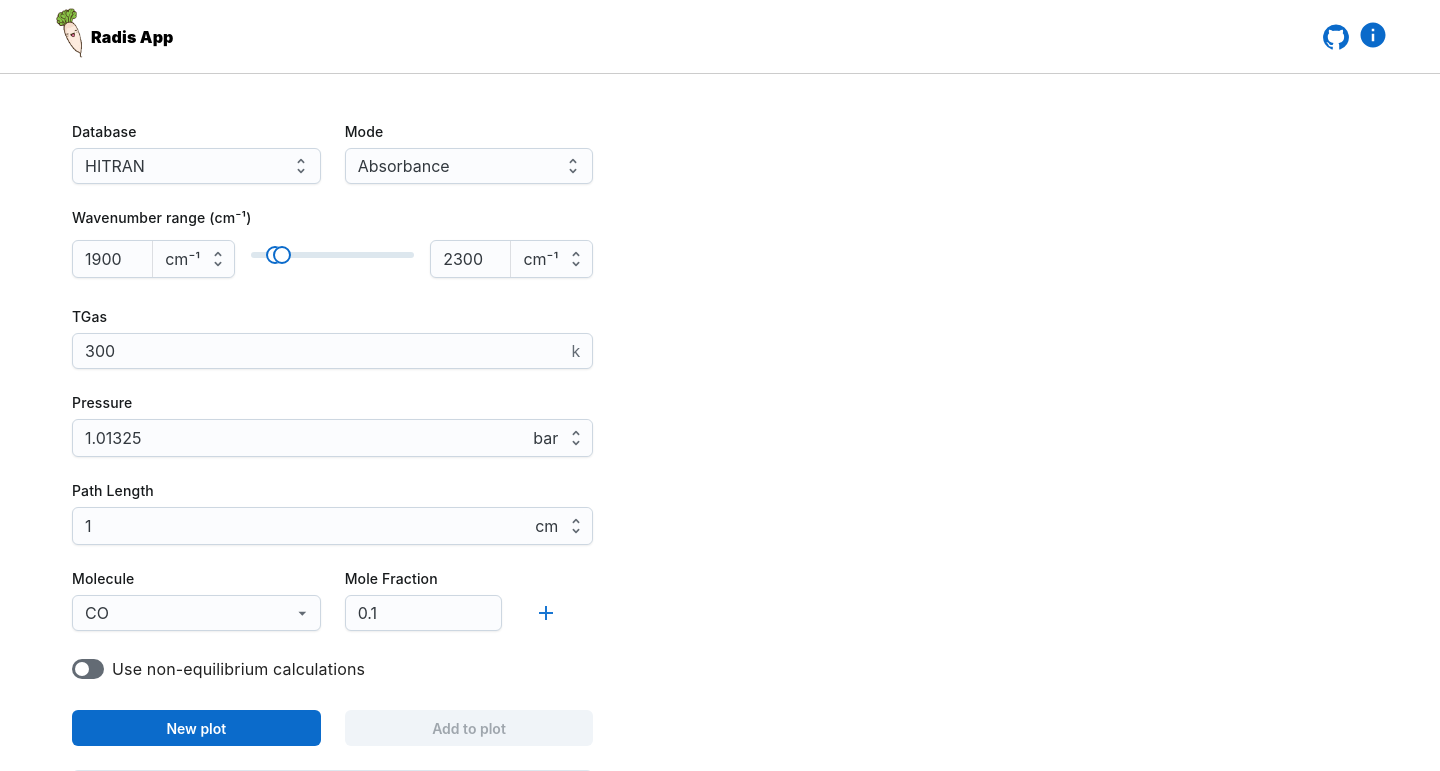
Scenario: testing tgas field › testing tgas field validation for out of range values
This screenshot has width=1440, height=771.
Replace the text in the number field labelled "TGas" with "20000000". click: (324, 351)
box: [85, 334, 563, 368]
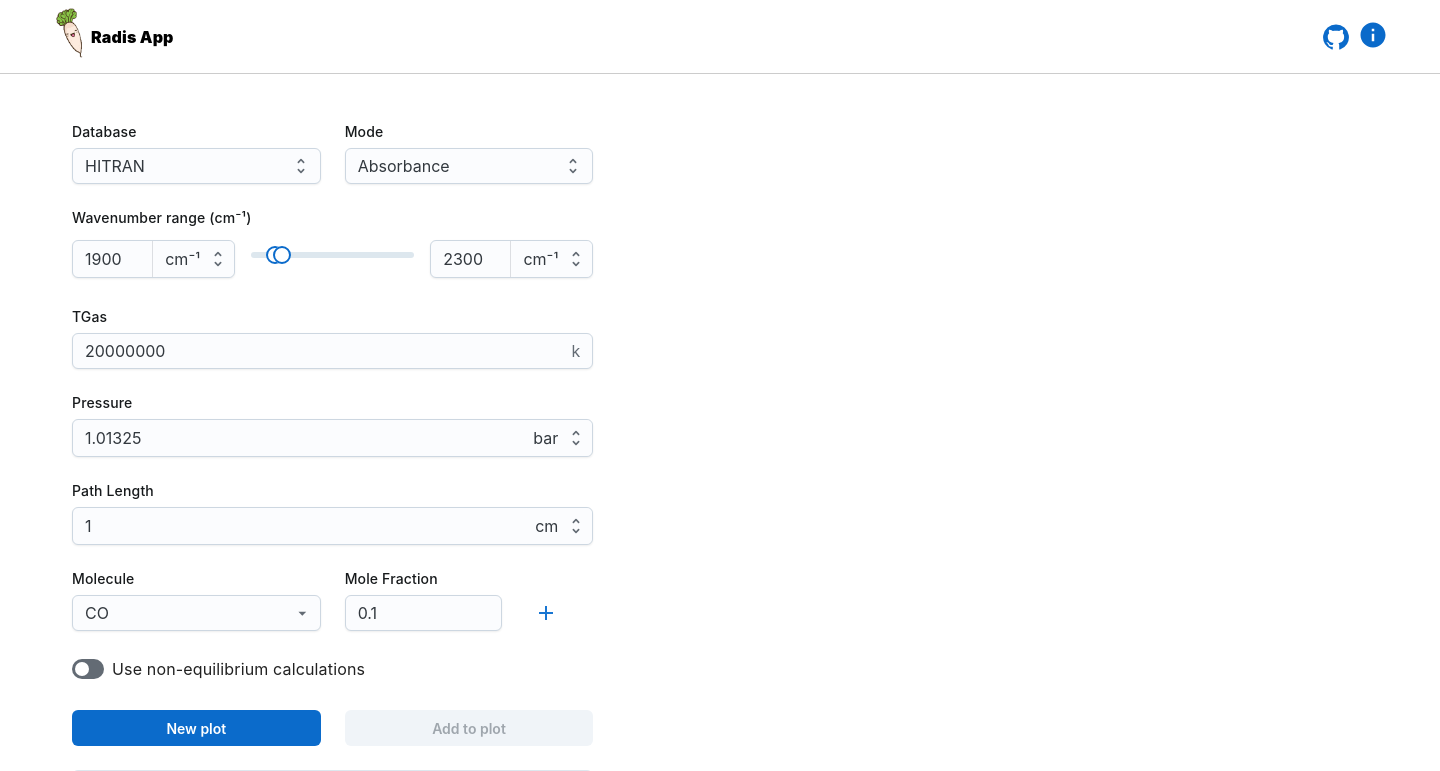
Click the button "New plot". click: (196, 728)
box: [72, 710, 321, 746]
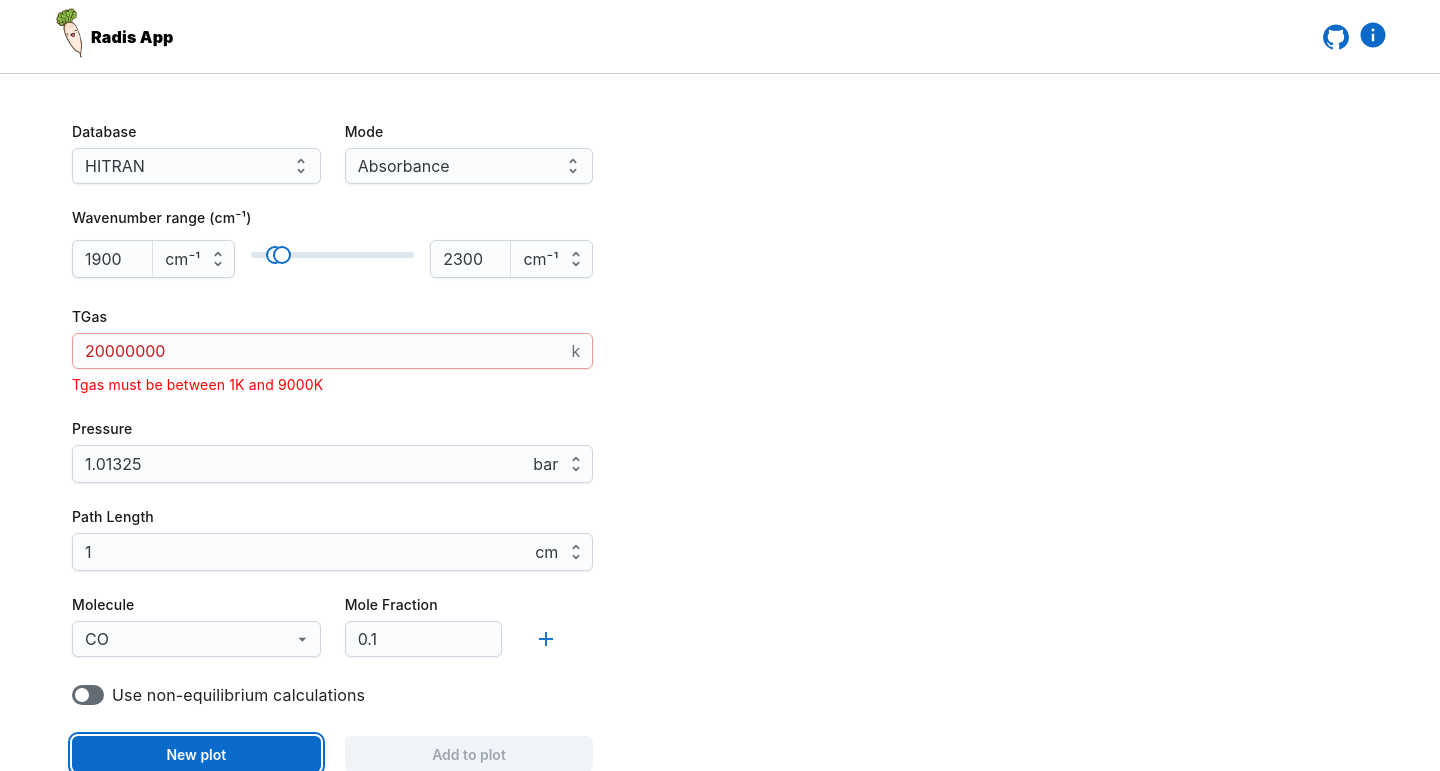
Now the text "Tgas must be between 1K and 9000K" is shown, box [72, 376, 323, 393]
